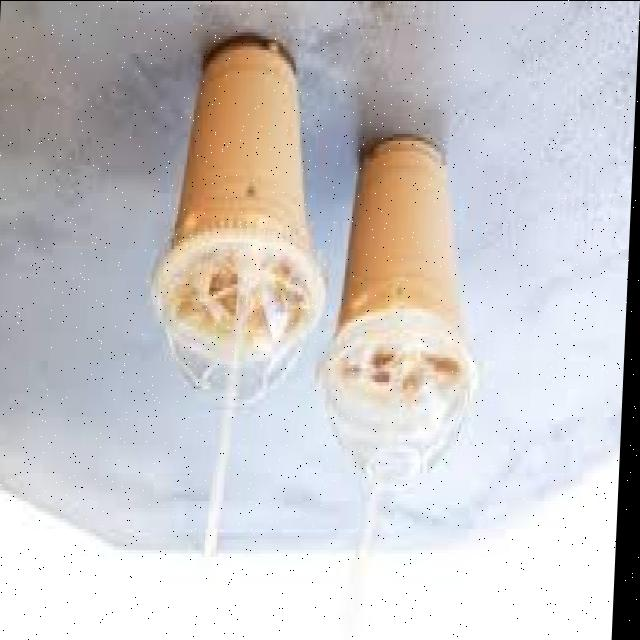cup: (174, 42, 312, 249), (339, 138, 461, 332)
